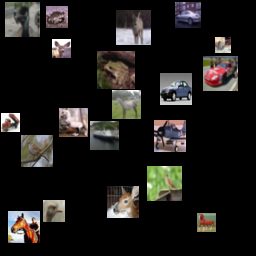airplane: (23, 180, 52, 209), (60, 184, 86, 210)
automobile: (151, 48, 180, 77), (96, 166, 125, 195), (160, 79, 179, 98)
bird: (208, 40, 246, 78), (22, 77, 51, 106), (183, 110, 209, 136)
cat: (72, 67, 104, 99), (115, 77, 147, 109), (58, 215, 80, 237)
deer: (131, 209, 163, 241), (140, 8, 166, 34), (207, 207, 233, 233)
dog: (17, 4, 55, 42)
frog: (57, 17, 89, 49), (77, 135, 106, 164), (107, 51, 123, 67)
ship: (145, 139, 180, 174), (15, 211, 44, 240)
